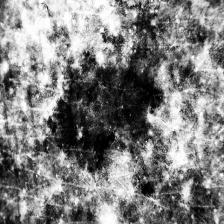Benign Marking or Mole: (46, 50, 166, 174)
